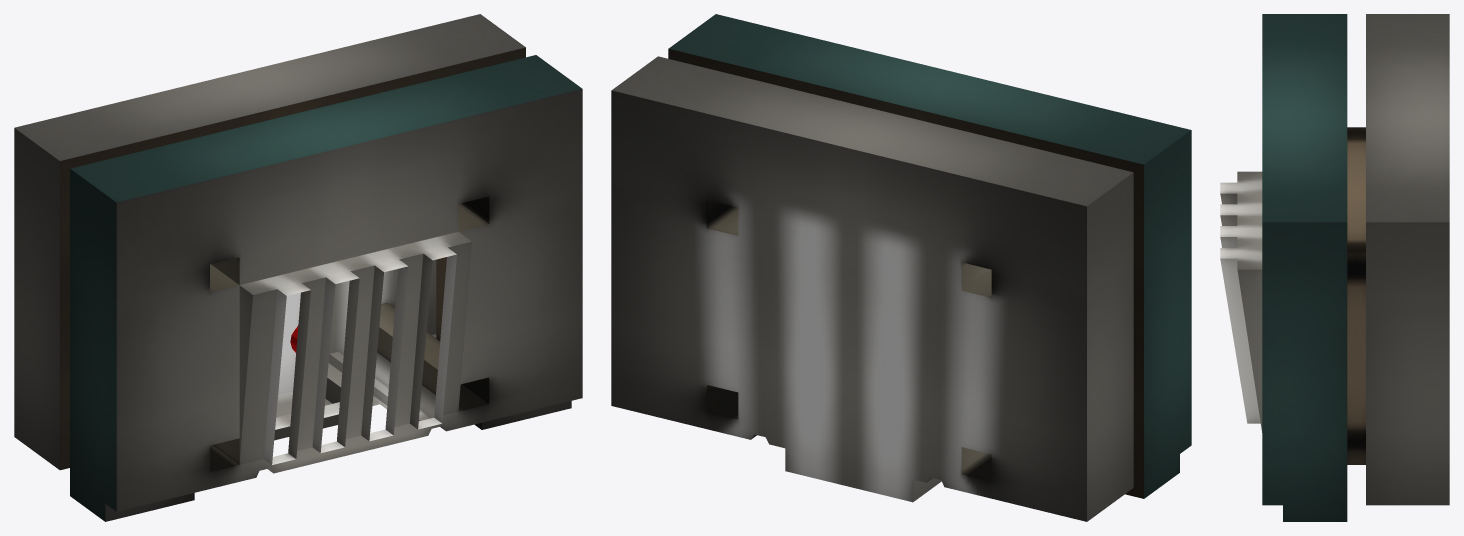
The picture shows the model from 3 angles, left to right: view 1: azimuth 30°, elevation 25°; view 2: azimuth 150°, elevation 25°; view 3: azimuth 270°, elevation 25°; orthographic projection. The views are drawn at different scales.
Parts seen in each view (by area): view 1: interior; view 2: interior; view 3: interior.
Boxes of the visible parts, <box> form: interior: <box>14,14,582,521</box>; interior: <box>611,14,1191,521</box>; interior: <box>1220,14,1449,521</box>.
Size of the model in its own units: 21.49 by 14.61 by 10.01.
2 materials, 2 textured.
